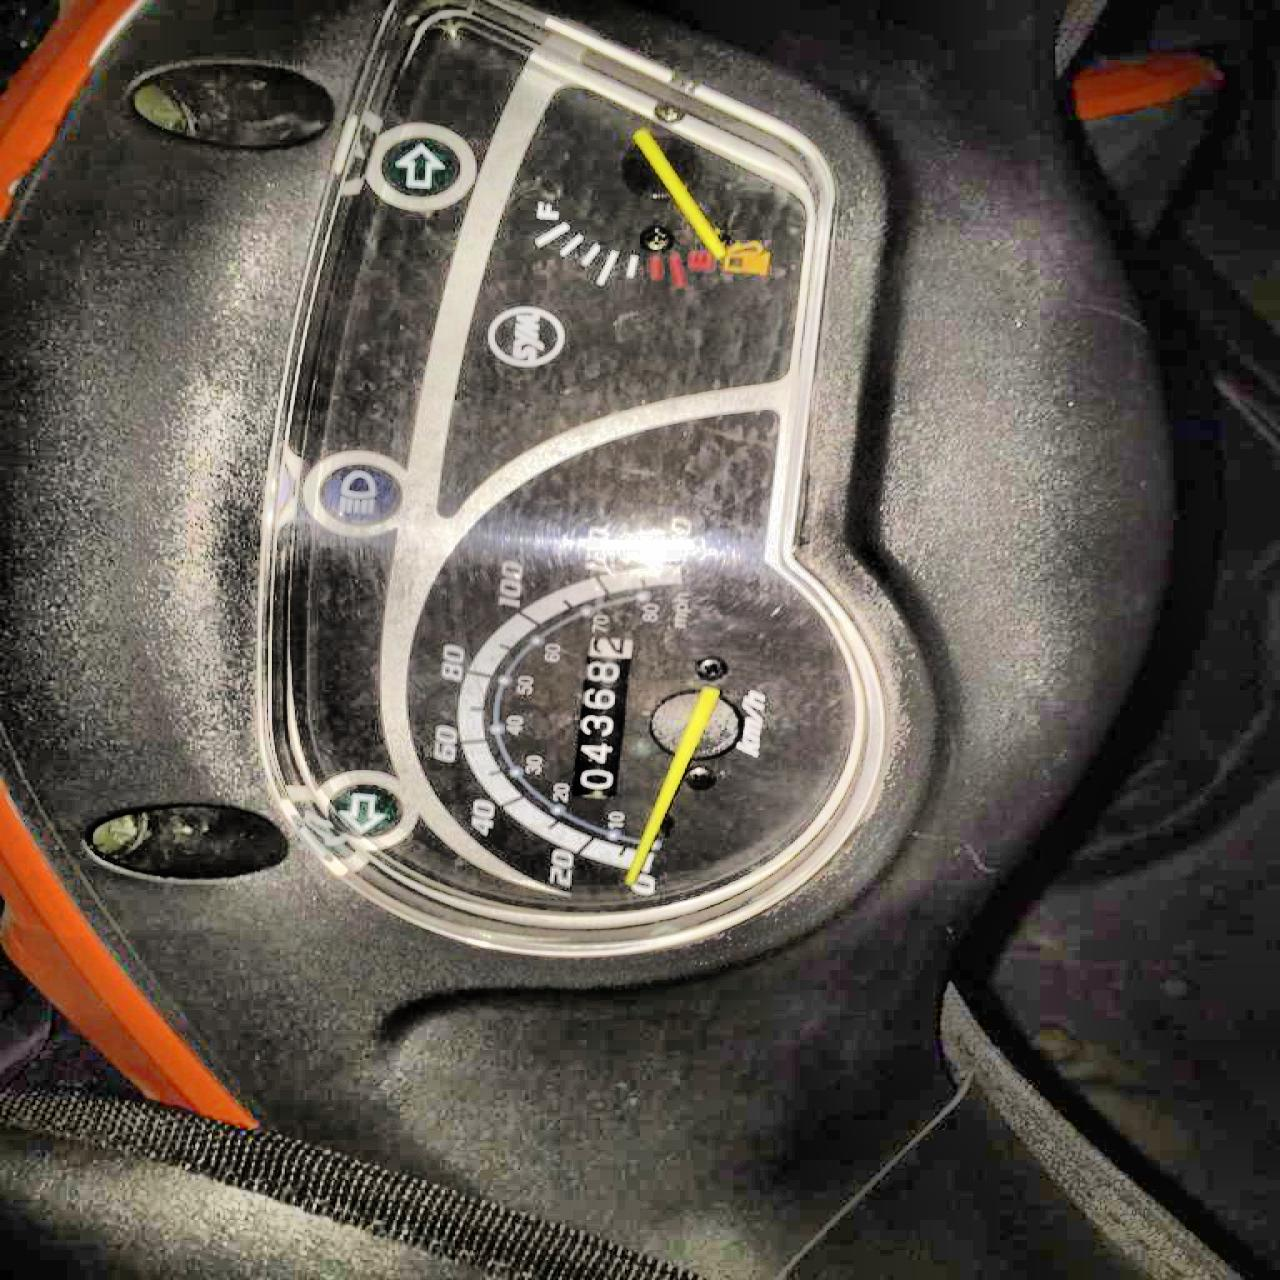0: (579, 768, 613, 789)
2: (592, 635, 624, 654)
3: (580, 714, 613, 736)
4: (578, 742, 612, 763)
6: (581, 686, 615, 709)
8: (585, 660, 620, 681)
odometer: (570, 633, 636, 798)
